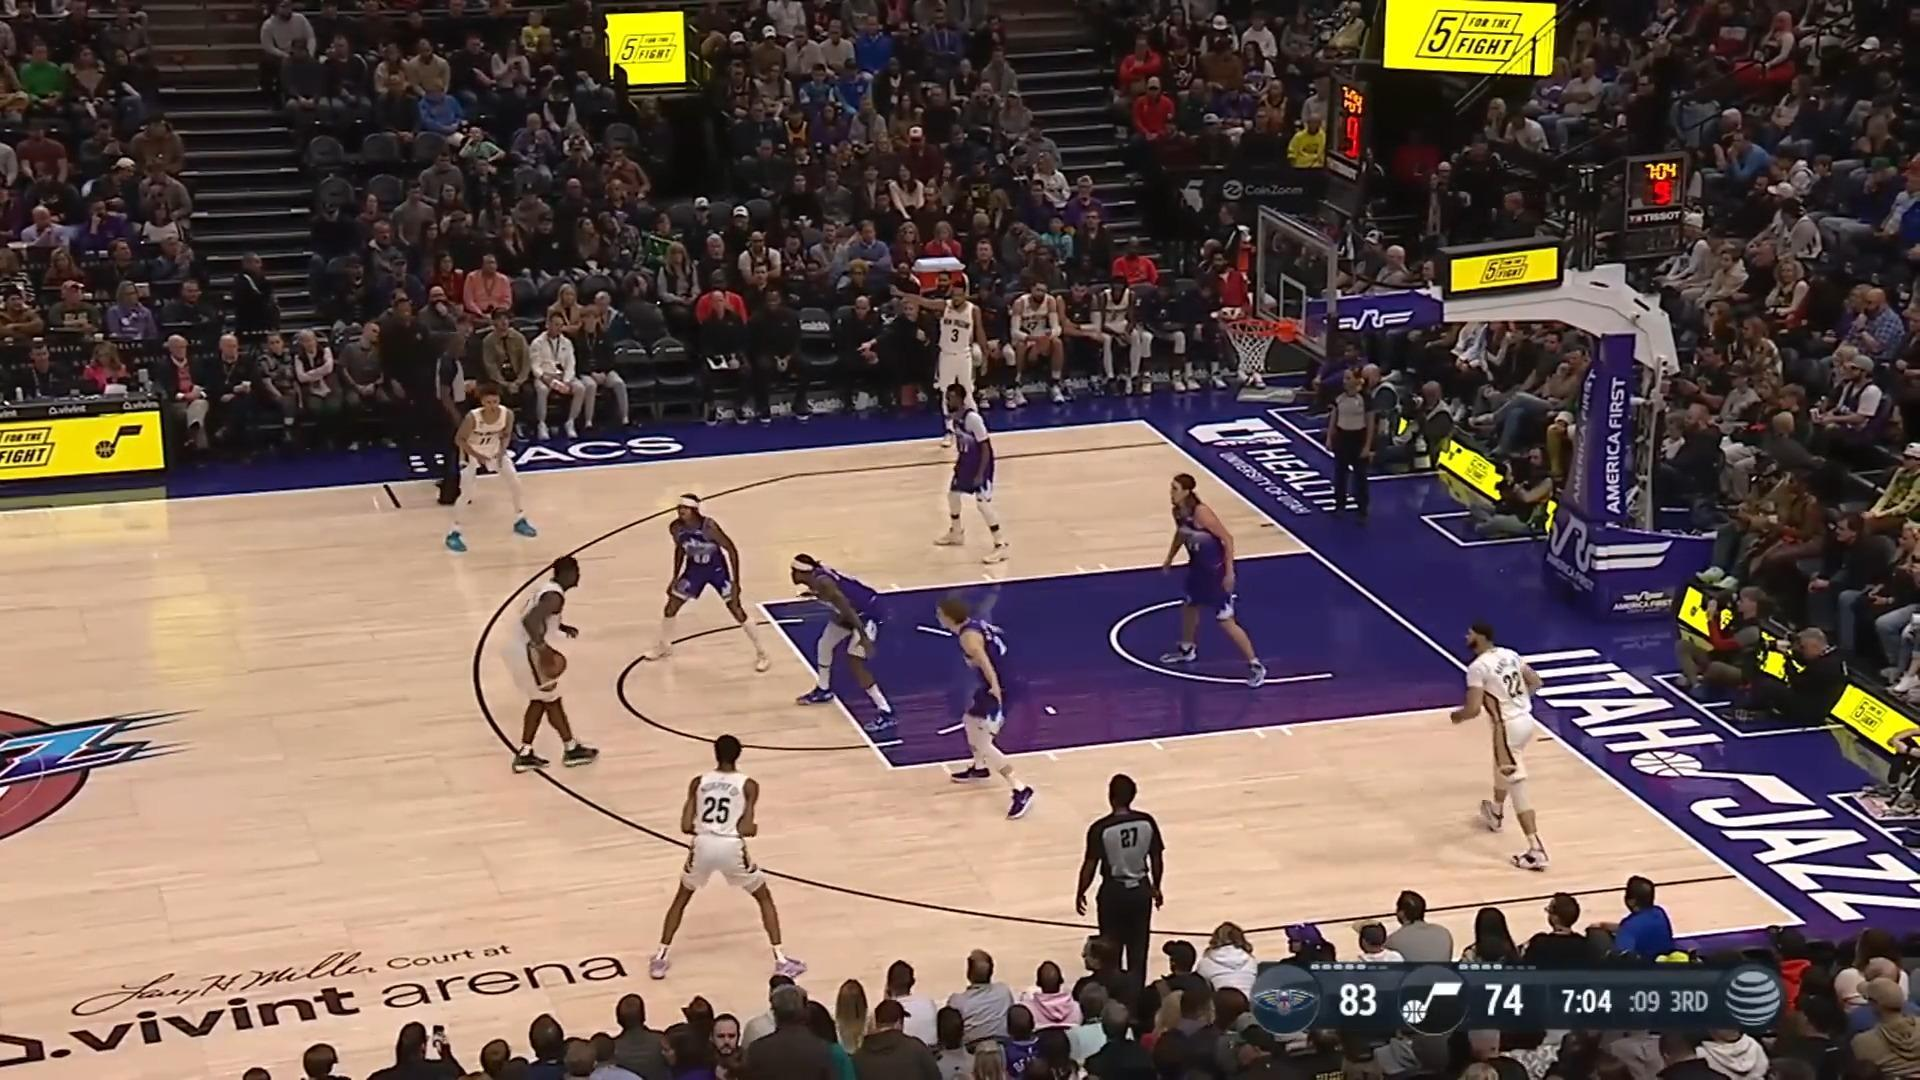basketball-player: (644, 733, 810, 984), (1443, 615, 1559, 881), (1150, 466, 1271, 691), (498, 544, 610, 779), (640, 487, 774, 677), (929, 590, 1038, 820), (781, 545, 903, 736), (1070, 769, 1167, 975), (882, 277, 990, 452), (437, 384, 546, 555), (932, 378, 1012, 571), (426, 328, 485, 513), (1321, 361, 1379, 525)
